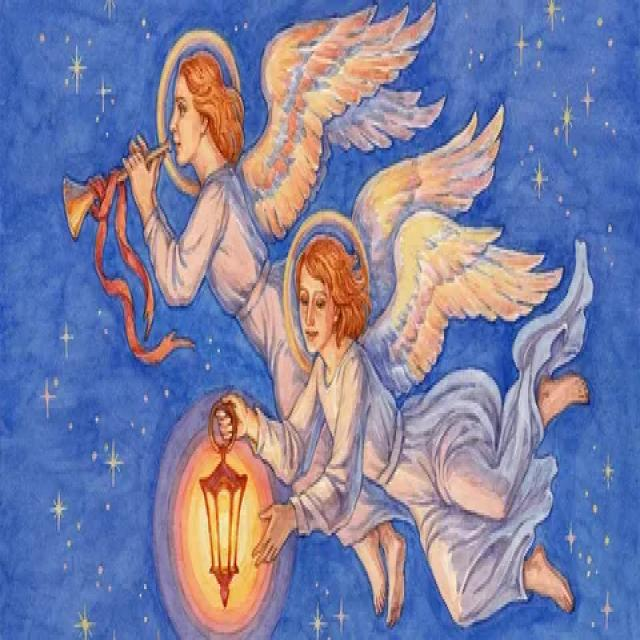angel: (55, 11, 458, 275)
